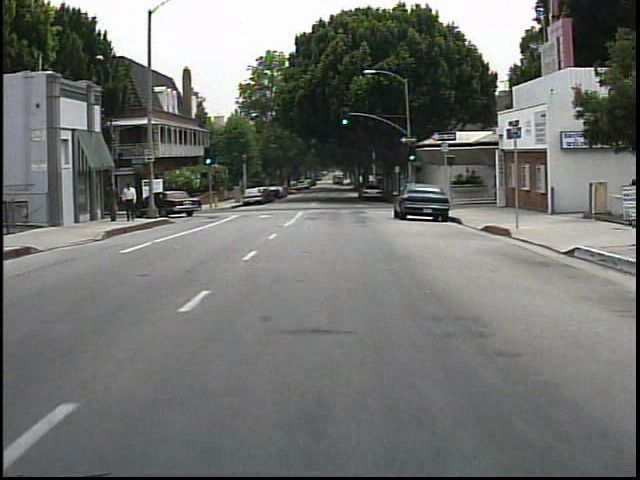person: (107, 182, 126, 224), (124, 181, 141, 223)
